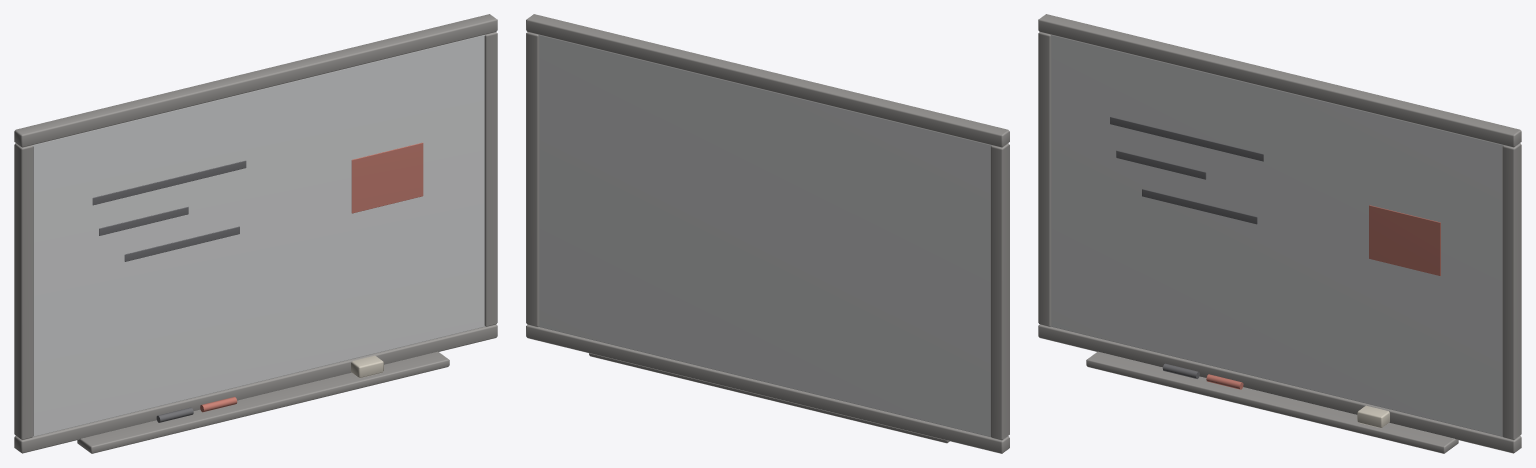
File: whiteboard.glb
The picture shows the model from 3 angles, left to right: view 1: azimuth 30°, elevation 25°; view 2: azimuth 150°, elevation 25°; view 3: azimuth 330°, elevation 25°; orthographic projection.
Visible parts, largest first — view 1: furn_whiteboard; view 2: furn_whiteboard; view 3: furn_whiteboard.
Boxes of the visible parts, bbox=[...] form: furn_whiteboard: bbox=[14, 14, 497, 453]; furn_whiteboard: bbox=[526, 14, 1009, 453]; furn_whiteboard: bbox=[1038, 14, 1521, 453].
Size of the model in its own units: 1.86 by 1.22 by 0.1275.
